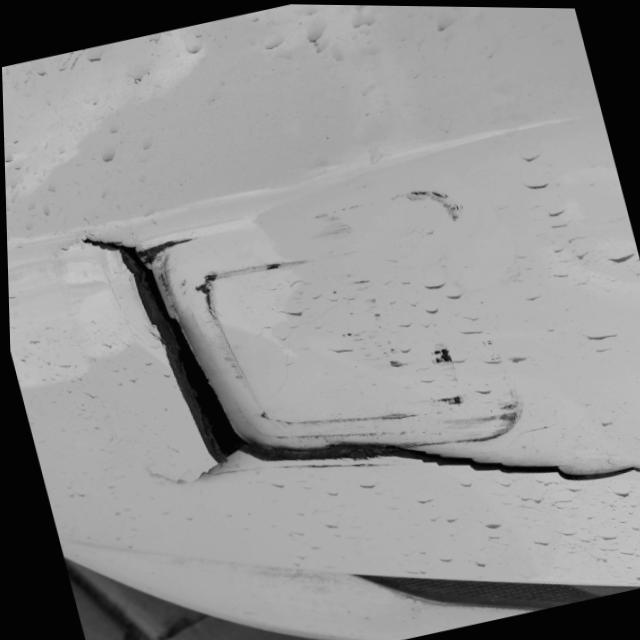Crack: (61, 229, 640, 488)
